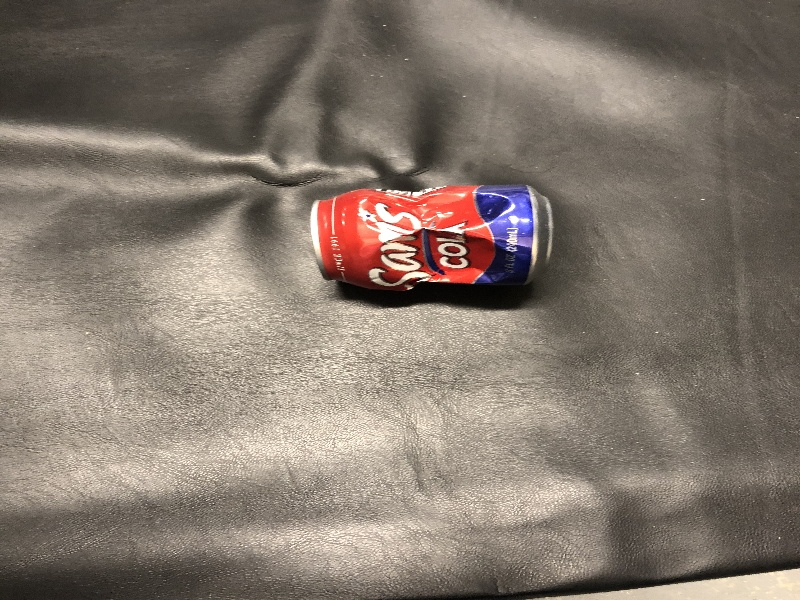metal: (306, 174, 568, 306)
